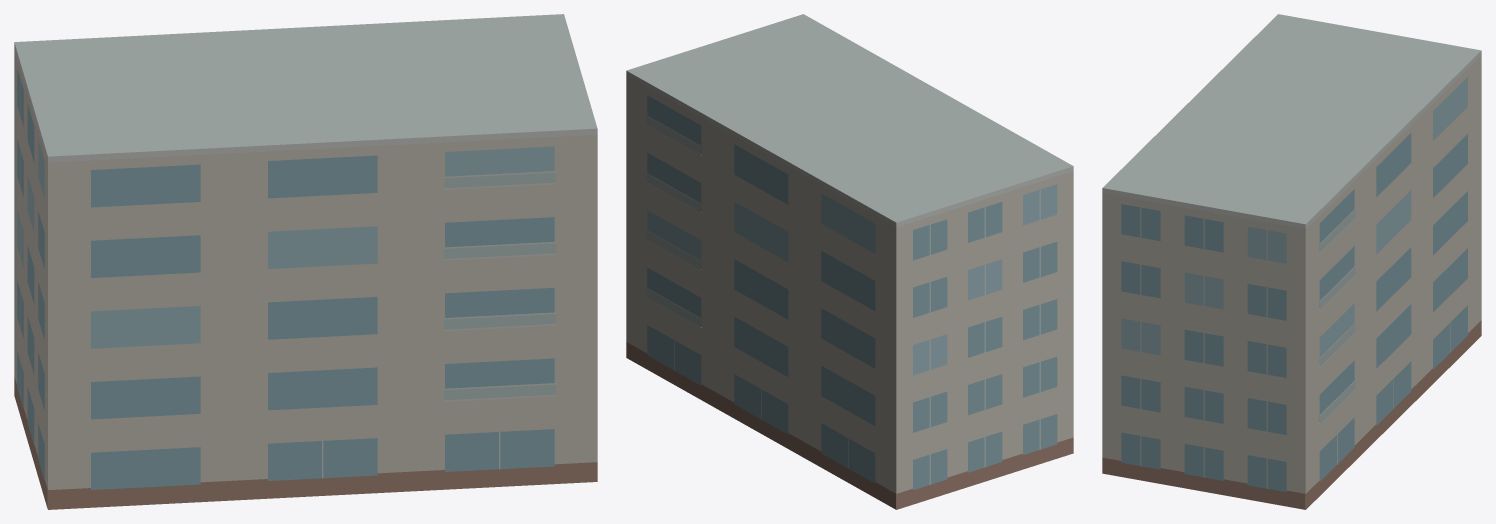
File: survey-upis-32749549.glb
3 renders of one model, left to right at view 1: azimuth 30°, elevation 25°; view 2: azimuth 150°, elevation 25°; view 3: azimuth 270°, elevation 25°, orthographic. The views are drawn at different scales.
Parts seen in each view (by area): view 1: survey-upis-32749549.tmp; view 2: survey-upis-32749549.tmp; view 3: survey-upis-32749549.tmp.
Part boxes in pixels (x1,y1,x2,y2): survey-upis-32749549.tmp: (14,14,597,509); survey-upis-32749549.tmp: (626,14,1073,509); survey-upis-32749549.tmp: (1102,14,1481,509).
Bounding box in the file's own units: 22.91 × 14.5 × 17.45.
